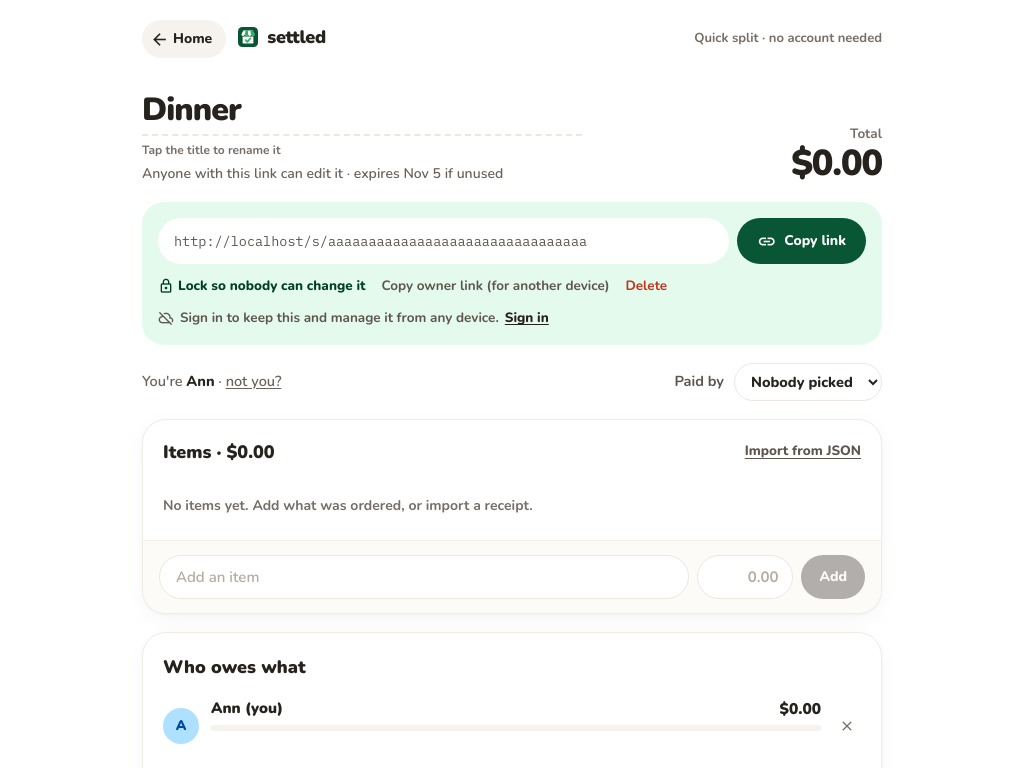
Test: Quick split page (no account) › imports items from the receipt JSON, with tax and tip
Click the button "Import from JSON" at (803, 452), box [745,441,861,462]
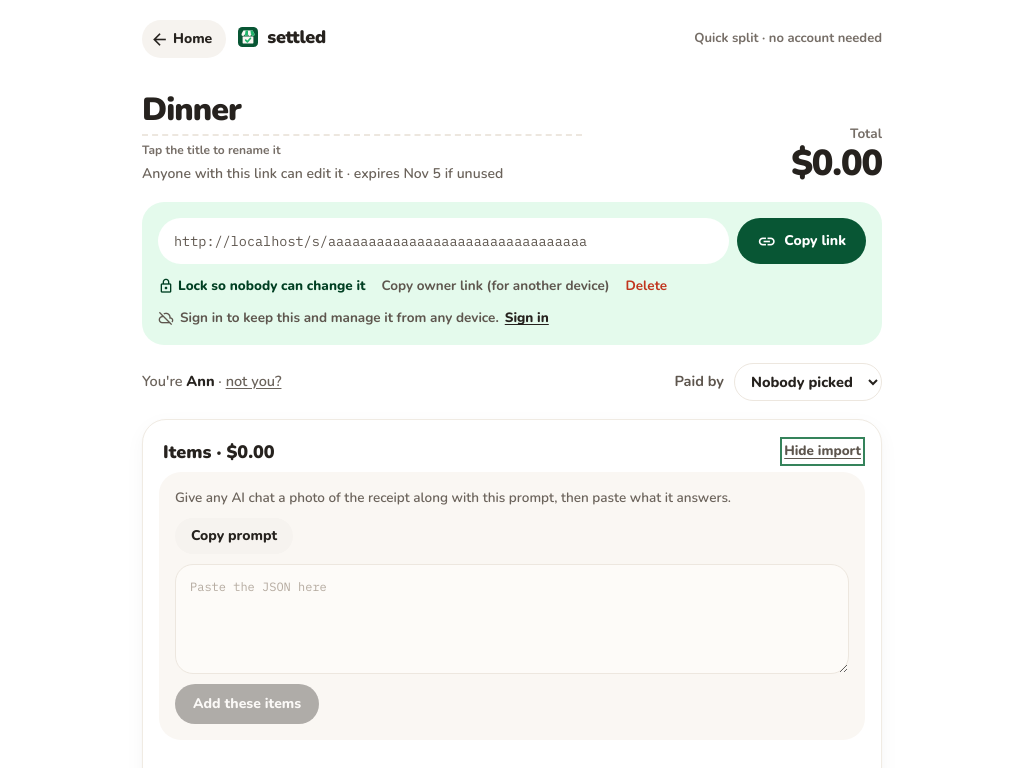
Click the text box named "Receipt JSON" at (512, 619), box [175,564,849,674]
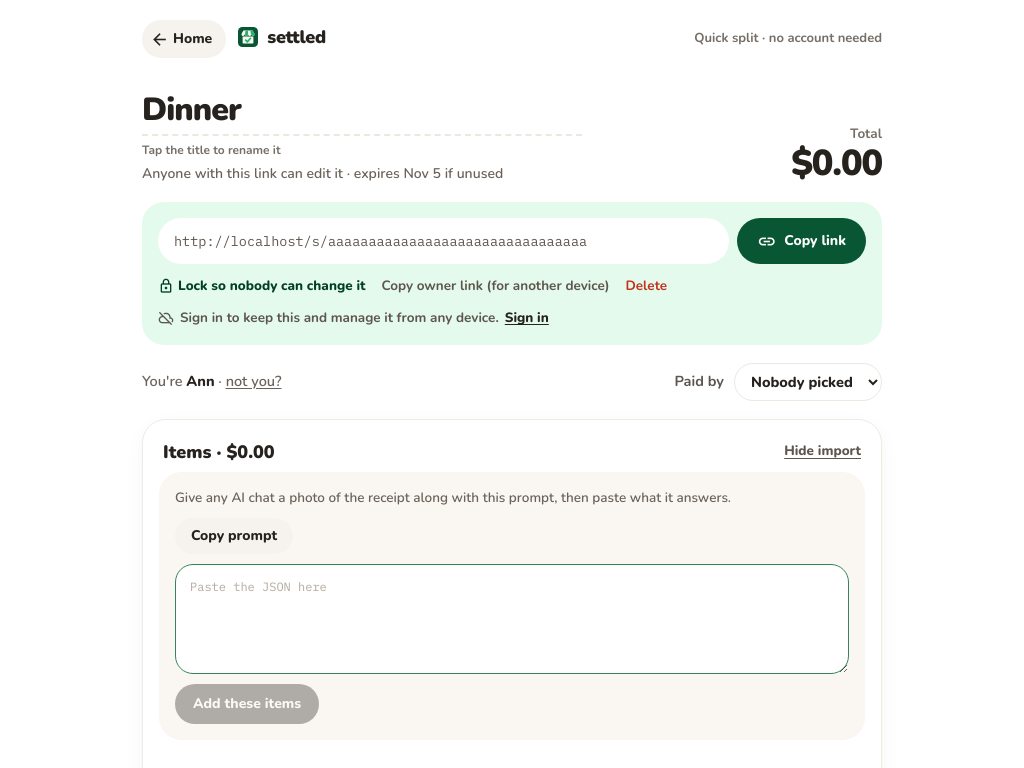
Type keys "{\"items\":[{\"name\":\"Burger\",\"price\":11},{\"name\":\"Fries\",\"price\":4}],\"tax\":1.5,\"tip\":2}"
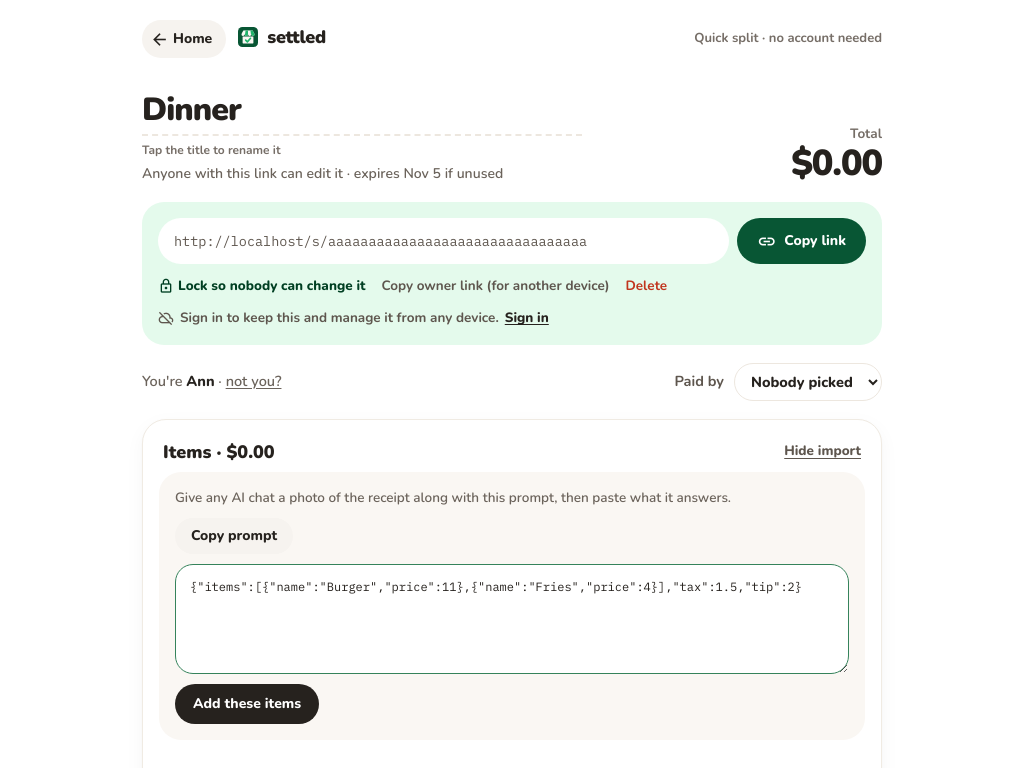
Click the button "Add these items" at (247, 704), box [175,684,319,724]
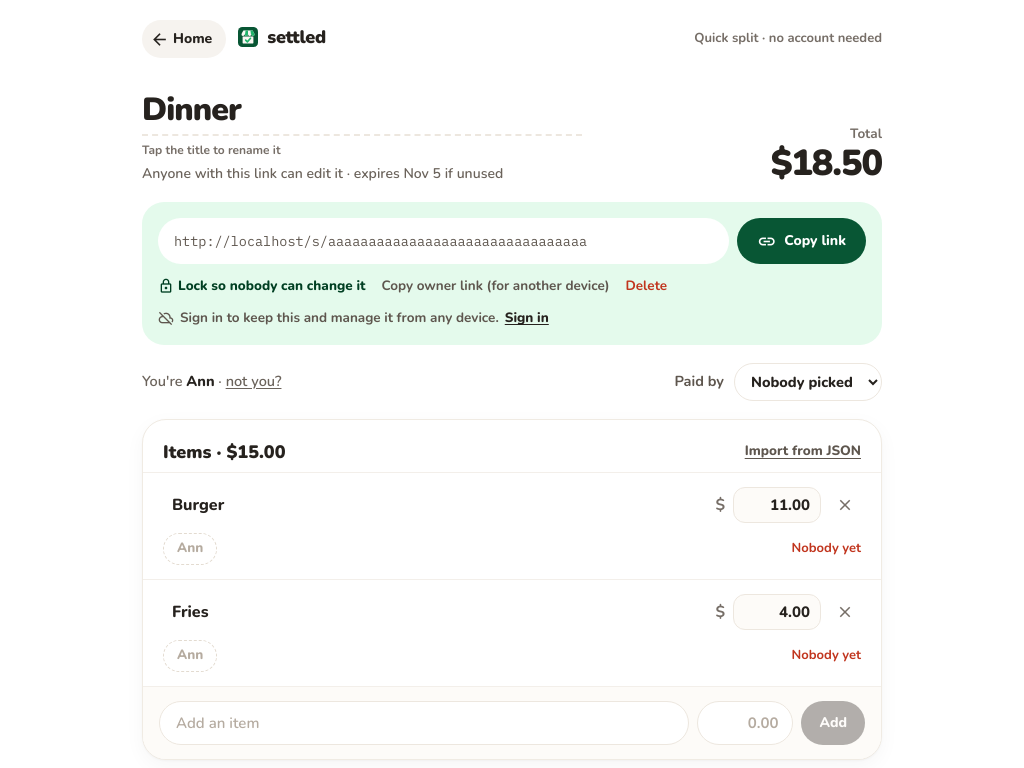
Expected: the field showing "Burger" is shown, [163,486,707,522]
